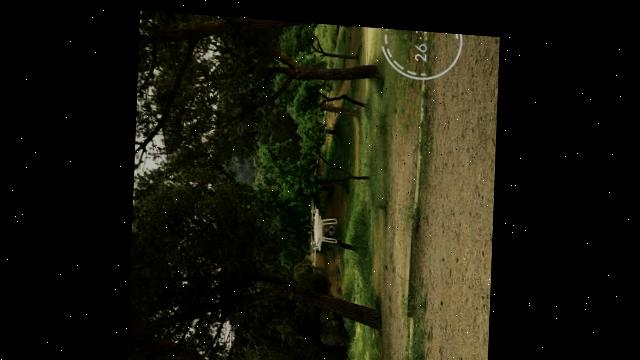drone: (307, 190, 342, 251)
